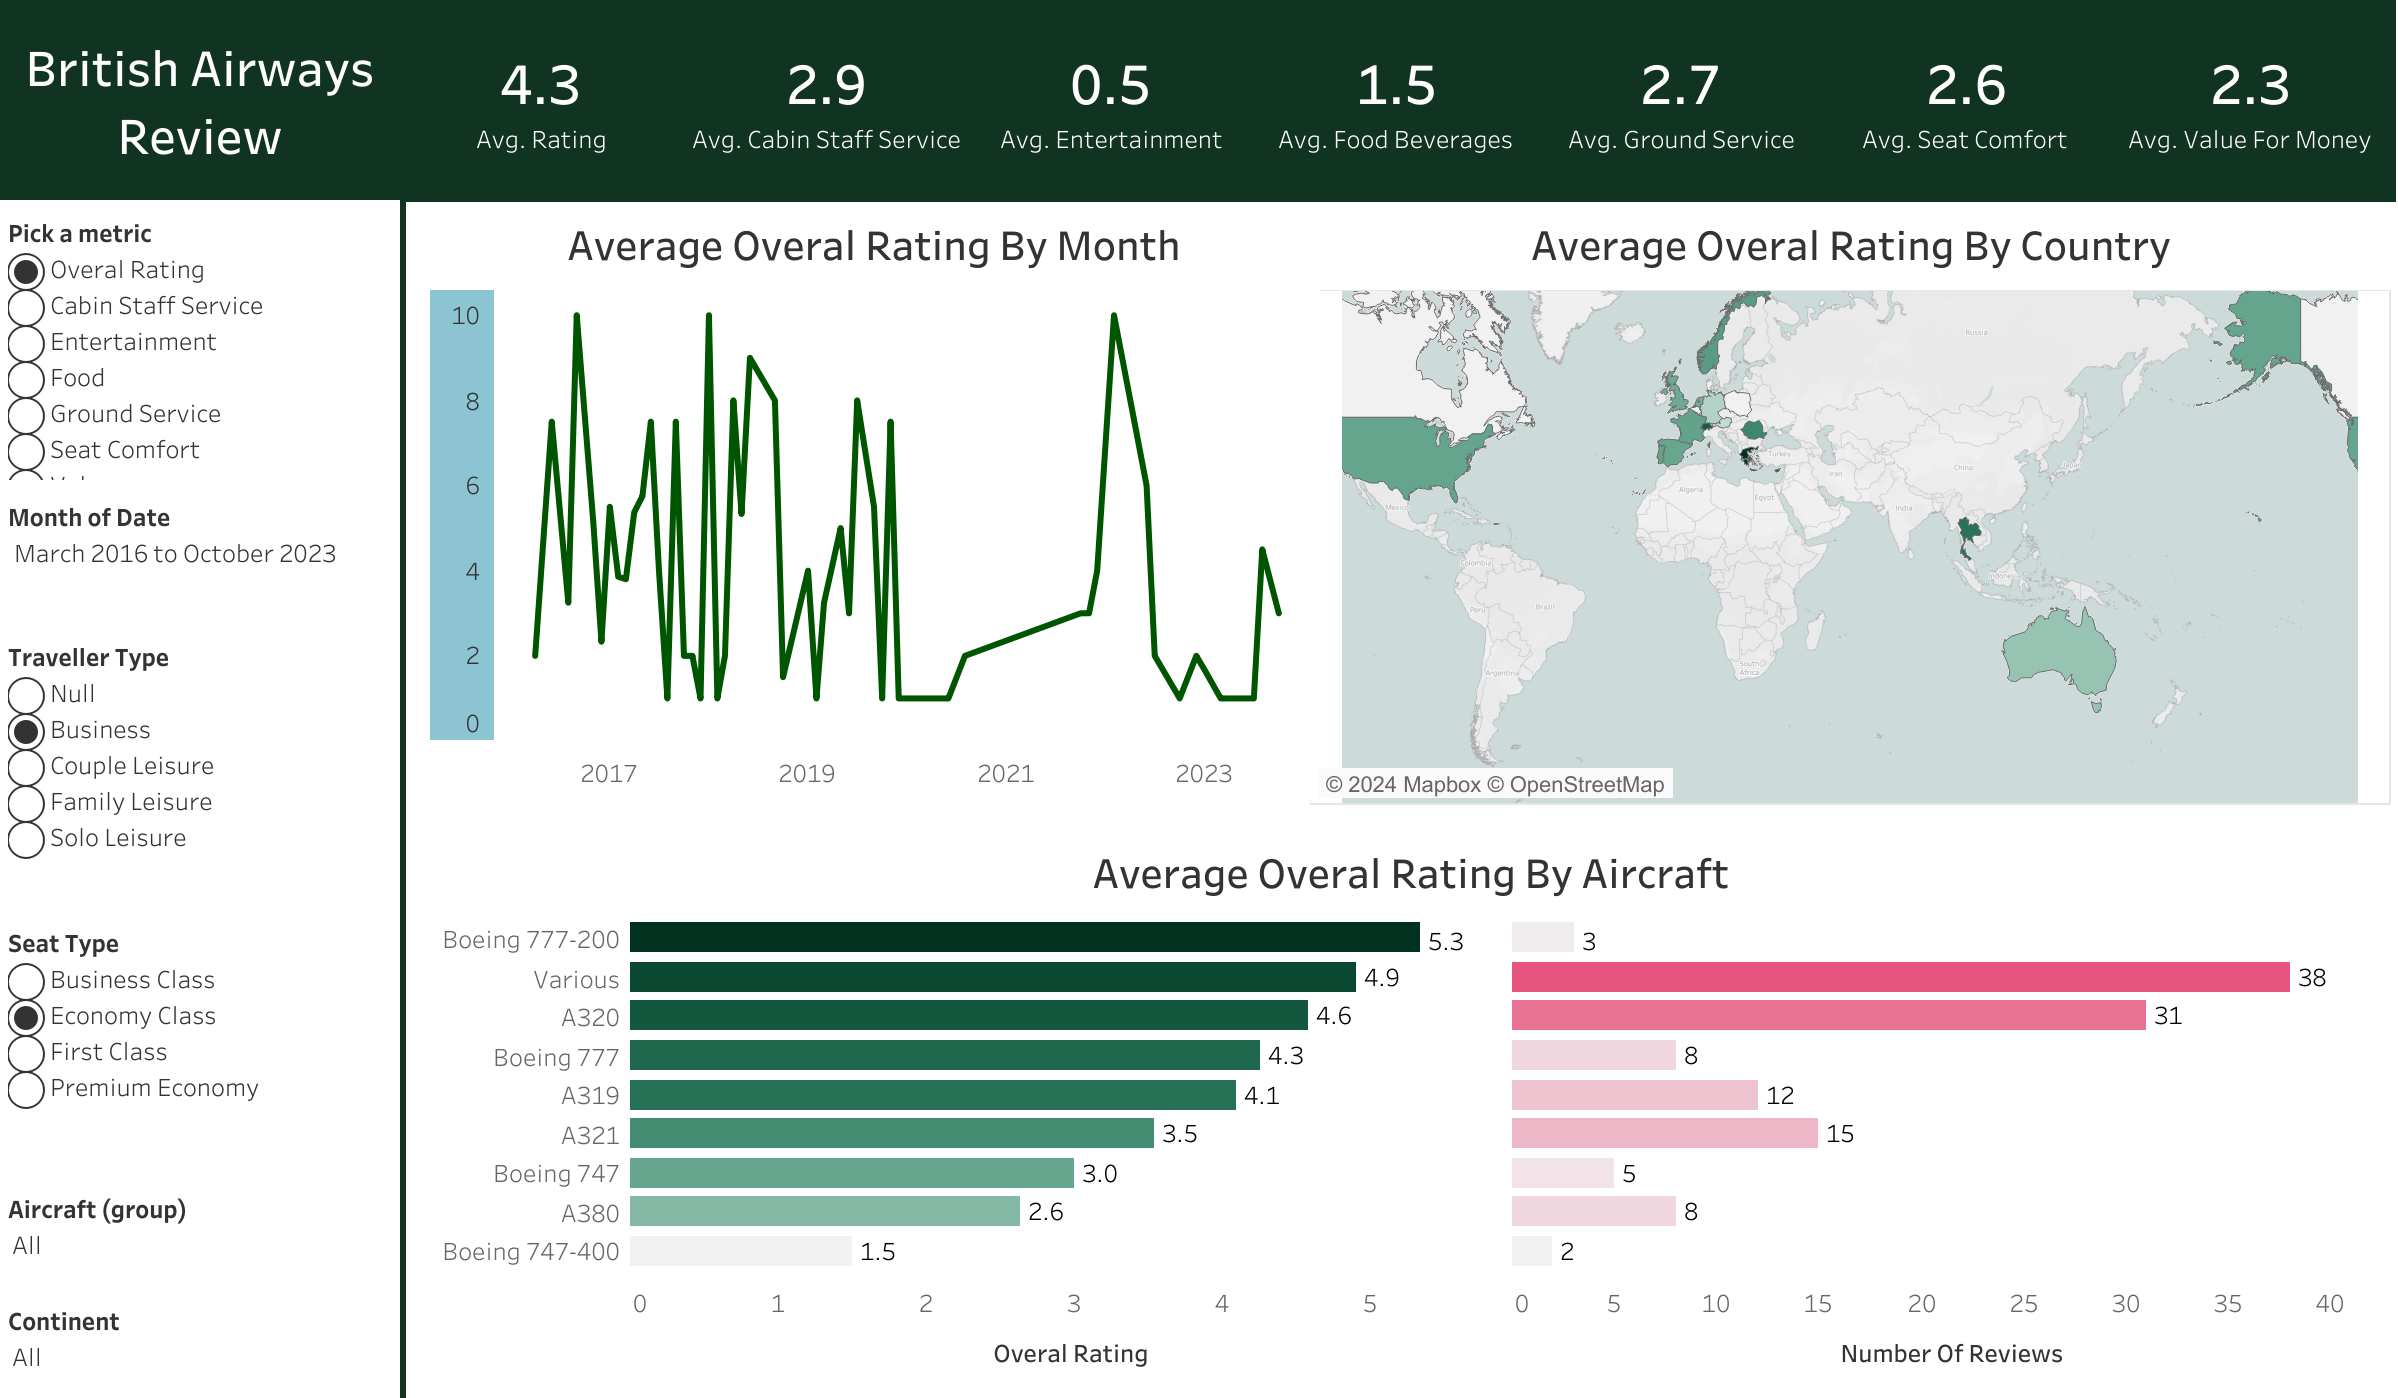

This screenshot's page, from the dashboard's own definition file:
{"tool":"tableau","page":{"name":"Dashboard 1","canvas":[1200,700],"ordinal":0},"visuals":[{"type":"text","box":[0,0,200,100]},{"type":"worksheet","title":"SUMMARY","mark":"Automatic","box":[200,0,997,100]},{"type":"blank","box":[200,100,3,600]},{"type":"parameter","param":"[Parameters].[Parameter 1]","box":[0,102,200,154]},{"type":"worksheet","title":"MONTH","mark":"Automatic","rows":["Calculation_1114078002398085120"],"cols":["date"],"box":[215,102,444,298]},{"type":"worksheet","title":"MAP","mark":"Automatic","box":[655,102,541,301]},{"type":"filter","title":"MAP","param":"[federated.0cy772z0z4acwr1h3wyrz007b42h].[tmn:date:qk]","box":[0,256,200,69]},{"type":"filter","title":"MAP","param":"[federated.0cy772z0z4acwr1h3wyrz007b42h].[none:traveller_type:nk]","box":[0,325,200,146]},{"type":"worksheet","title":"Aircraft","mark":"Automatic","cols":["Calculation_1114078002398085120","ba_reviews.csv_B29A85497C514EDD976A5E798DCA6BC9"],"box":[215,416,981,276]},{"type":"filter","title":"MAP","param":"[federated.0cy772z0z4acwr1h3wyrz007b42h].[none:seat_type:nk]","box":[0,471,200,127]},{"type":"filter","title":"MAP","param":"[federated.0cy772z0z4acwr1h3wyrz007b42h].[Aircraft (group)]","box":[0,598,200,52]},{"type":"filter","title":"MAP","param":"[federated.0cy772z0z4acwr1h3wyrz007b42h].[none:Continent:nk]","box":[0,650,200,52]}]}

Visuals, with their boxes in screenshot pixels (x1, y1, x2, y2), scaled from the page's 1200x700 canvas onto the 2398x1398 screenshot:
text: crop(0, 0, 400, 200)
"SUMMARY" worksheet: crop(400, 0, 2392, 200)
blank: crop(400, 200, 406, 1397)
parameter: crop(0, 204, 400, 511)
"MONTH" worksheet: crop(430, 204, 1317, 799)
"MAP" worksheet: crop(1309, 204, 2390, 805)
"MAP" filter: crop(0, 511, 400, 649)
"MAP" filter: crop(0, 649, 400, 941)
"Aircraft" worksheet: crop(430, 831, 2390, 1382)
"MAP" filter: crop(0, 941, 400, 1194)
"MAP" filter: crop(0, 1194, 400, 1298)
"MAP" filter: crop(0, 1298, 400, 1397)
